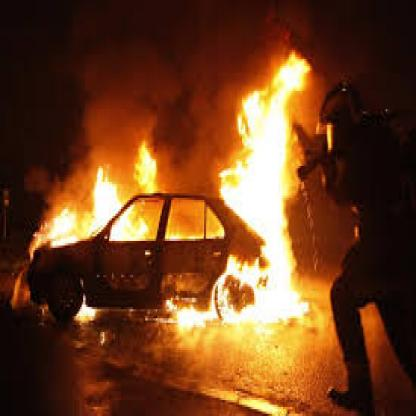fire: (65, 159, 290, 325), (234, 58, 306, 162)
